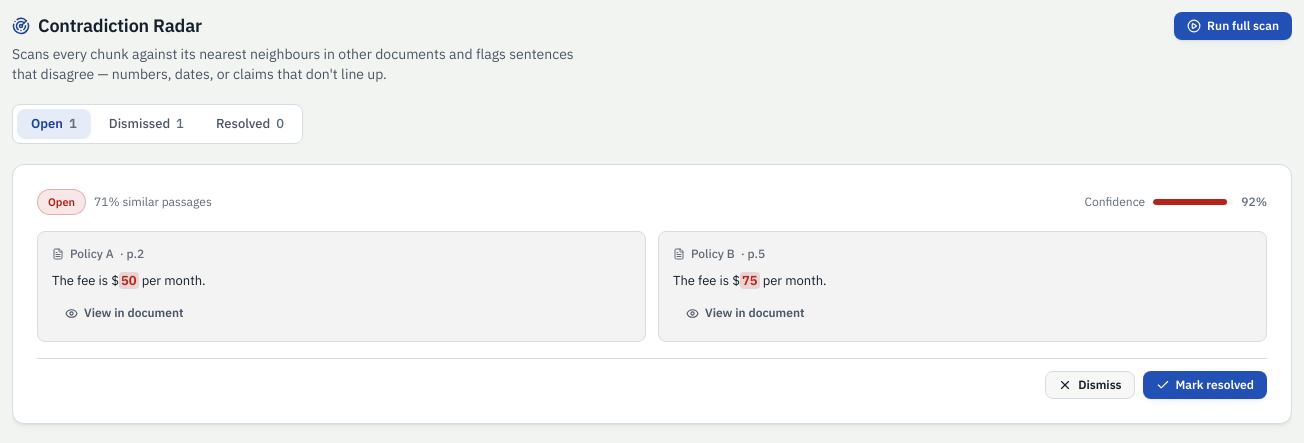
Test case: RadarPanel › switches filters and refetches the corresponding status
This screenshot has width=1304, height=443.
expect the text "Policy A" is shown: met, box [70, 246, 114, 262]
Click the tab "Dismissed 1". click: (146, 124)
box: [95, 109, 198, 139]
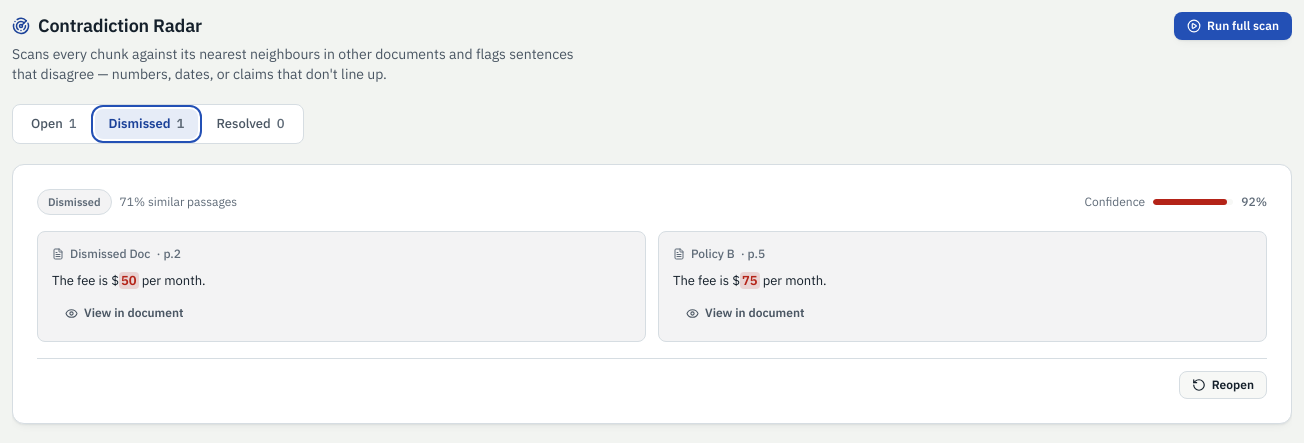
expect the text "Dismissed Doc" is shown: met, box [70, 246, 150, 262]
expect the text "Policy A" is gone: met
